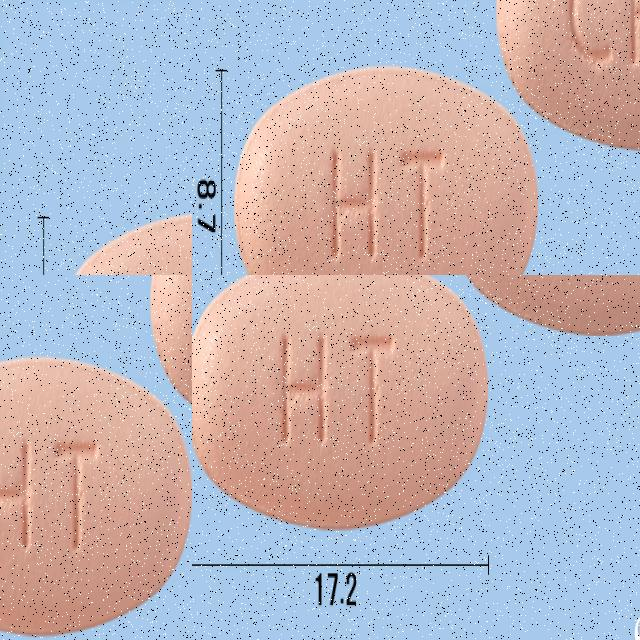Cefix Cap: (0, 403, 192, 640)
Claniz: (229, 73, 555, 275), (491, 0, 640, 132)
Crafroxin Tab: (192, 275, 488, 532)
